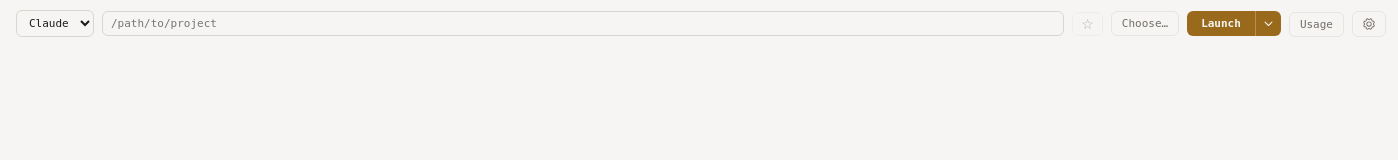
LaunchBar › opens the native picker and fills the input with the chosen path
The image size is (1398, 160).
Click the button with aria-label "Choose a working directory": (1145, 24) [1111,11,1179,36]
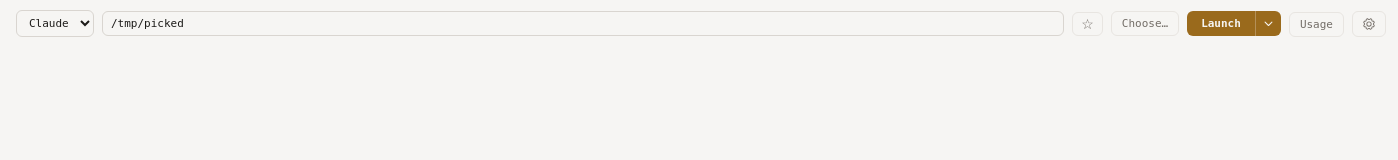
Result: the field named "Working directory" holds "/tmp/picked" at [102,11,1064,36]
